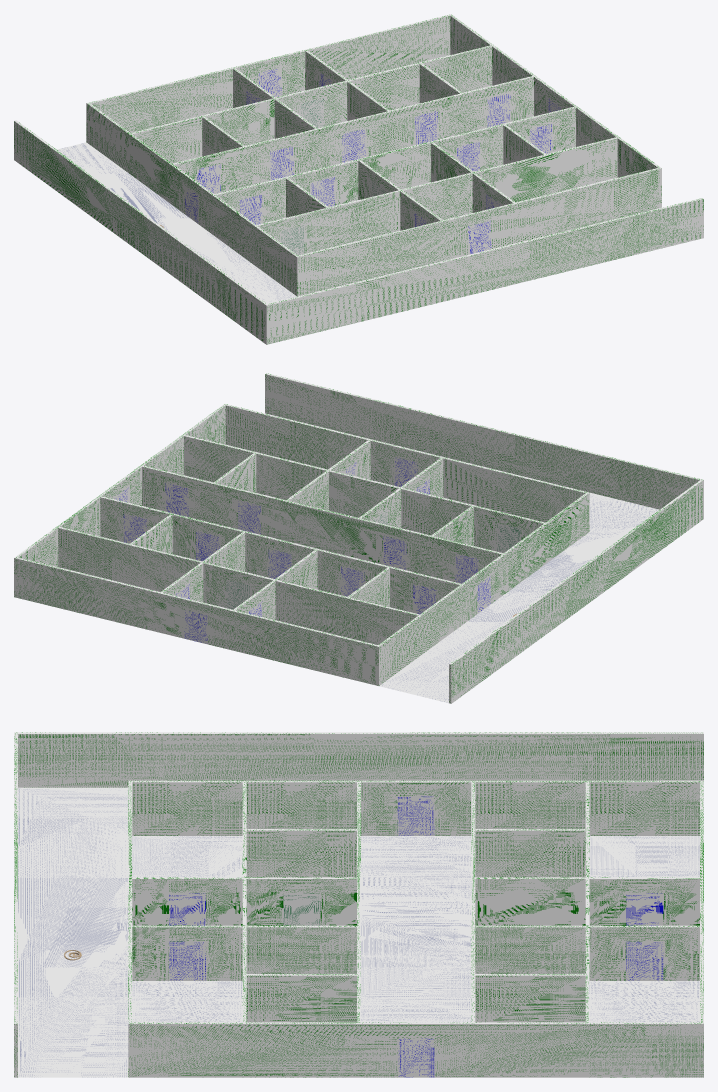
3 views of the same model, one above another, from view 1: azimuth 30°, elevation 25°; view 2: azimuth 150°, elevation 25°; view 3: azimuth 270°, elevation 25° (orthographic). The views are drawn at different scales.
Parts seen in each view (by area): view 1: SketchUp (×33); view 2: SketchUp (×33); view 3: SketchUp (×32).
Part boxes in pixels (x1,y1,x2,y2): SketchUp (×33): (14,14,703,344); SketchUp (×33): (14,373,703,703); SketchUp (×32): (14,732,703,1077).
Size of the model in its own units: 1050 by 1050 by 90.
